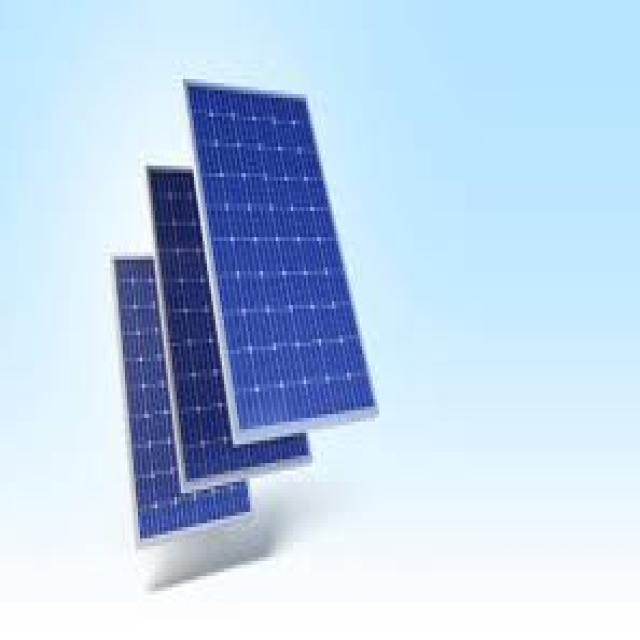clean-solar-panel: (187, 81, 373, 438), (149, 168, 311, 479), (116, 260, 248, 534)
